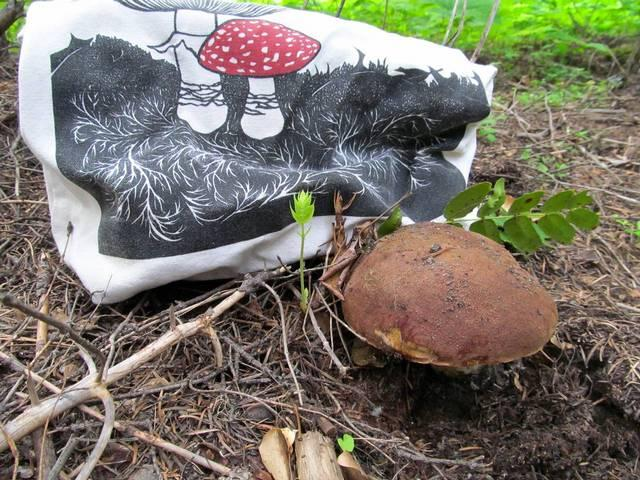Edible Mushroom: (337, 220, 558, 375)
